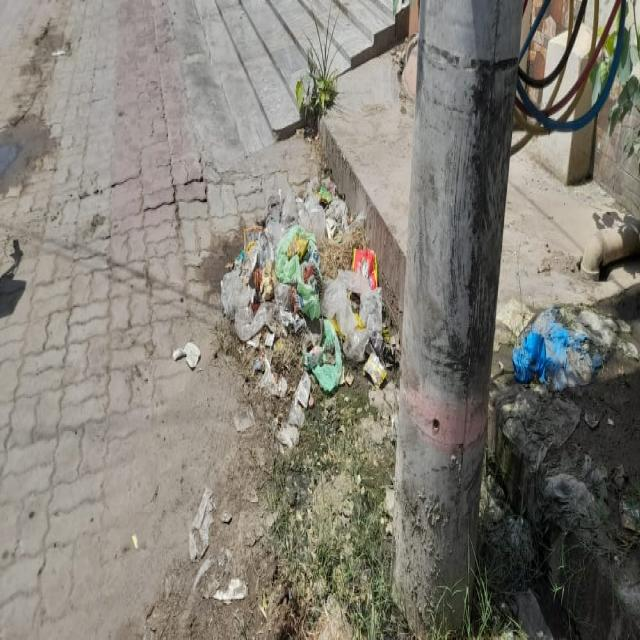plastic: (221, 191, 380, 390)
